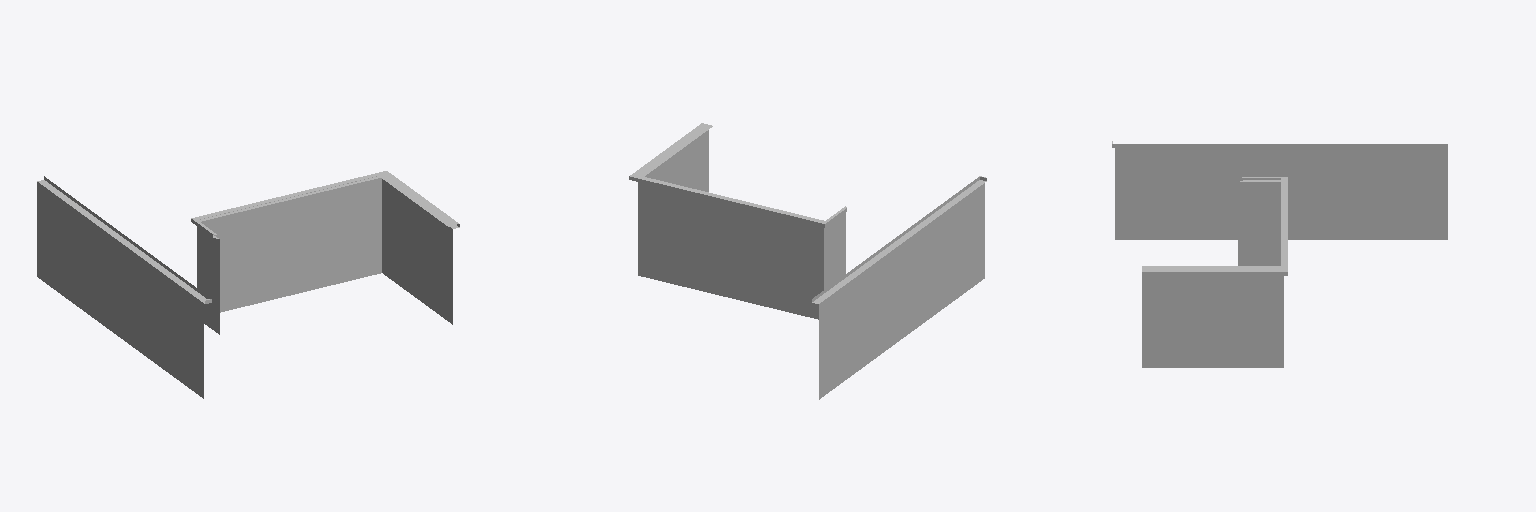
Rendered from AlleyWayOutofBounds2.obj.
The picture shows the model from 3 angles: view 1: azimuth 30°, elevation 25°; view 2: azimuth 150°, elevation 25°; view 3: azimuth 270°, elevation 25°; orthographic projection.
Visible parts, largest first — view 1: Cube.003_Cube.000_Cube.003_Cube.003; view 2: Cube.003_Cube.000_Cube.003_Cube.003; view 3: Cube.003_Cube.000_Cube.003_Cube.003.
Part boxes in pixels (x1,y1,x2,y2): Cube.003_Cube.000_Cube.003_Cube.003: (37,171,459,398); Cube.003_Cube.000_Cube.003_Cube.003: (629,123,986,399); Cube.003_Cube.000_Cube.003_Cube.003: (1112,141,1447,367).
Bounding box in the file's own units: 22.78 × 8.02 × 24.59.